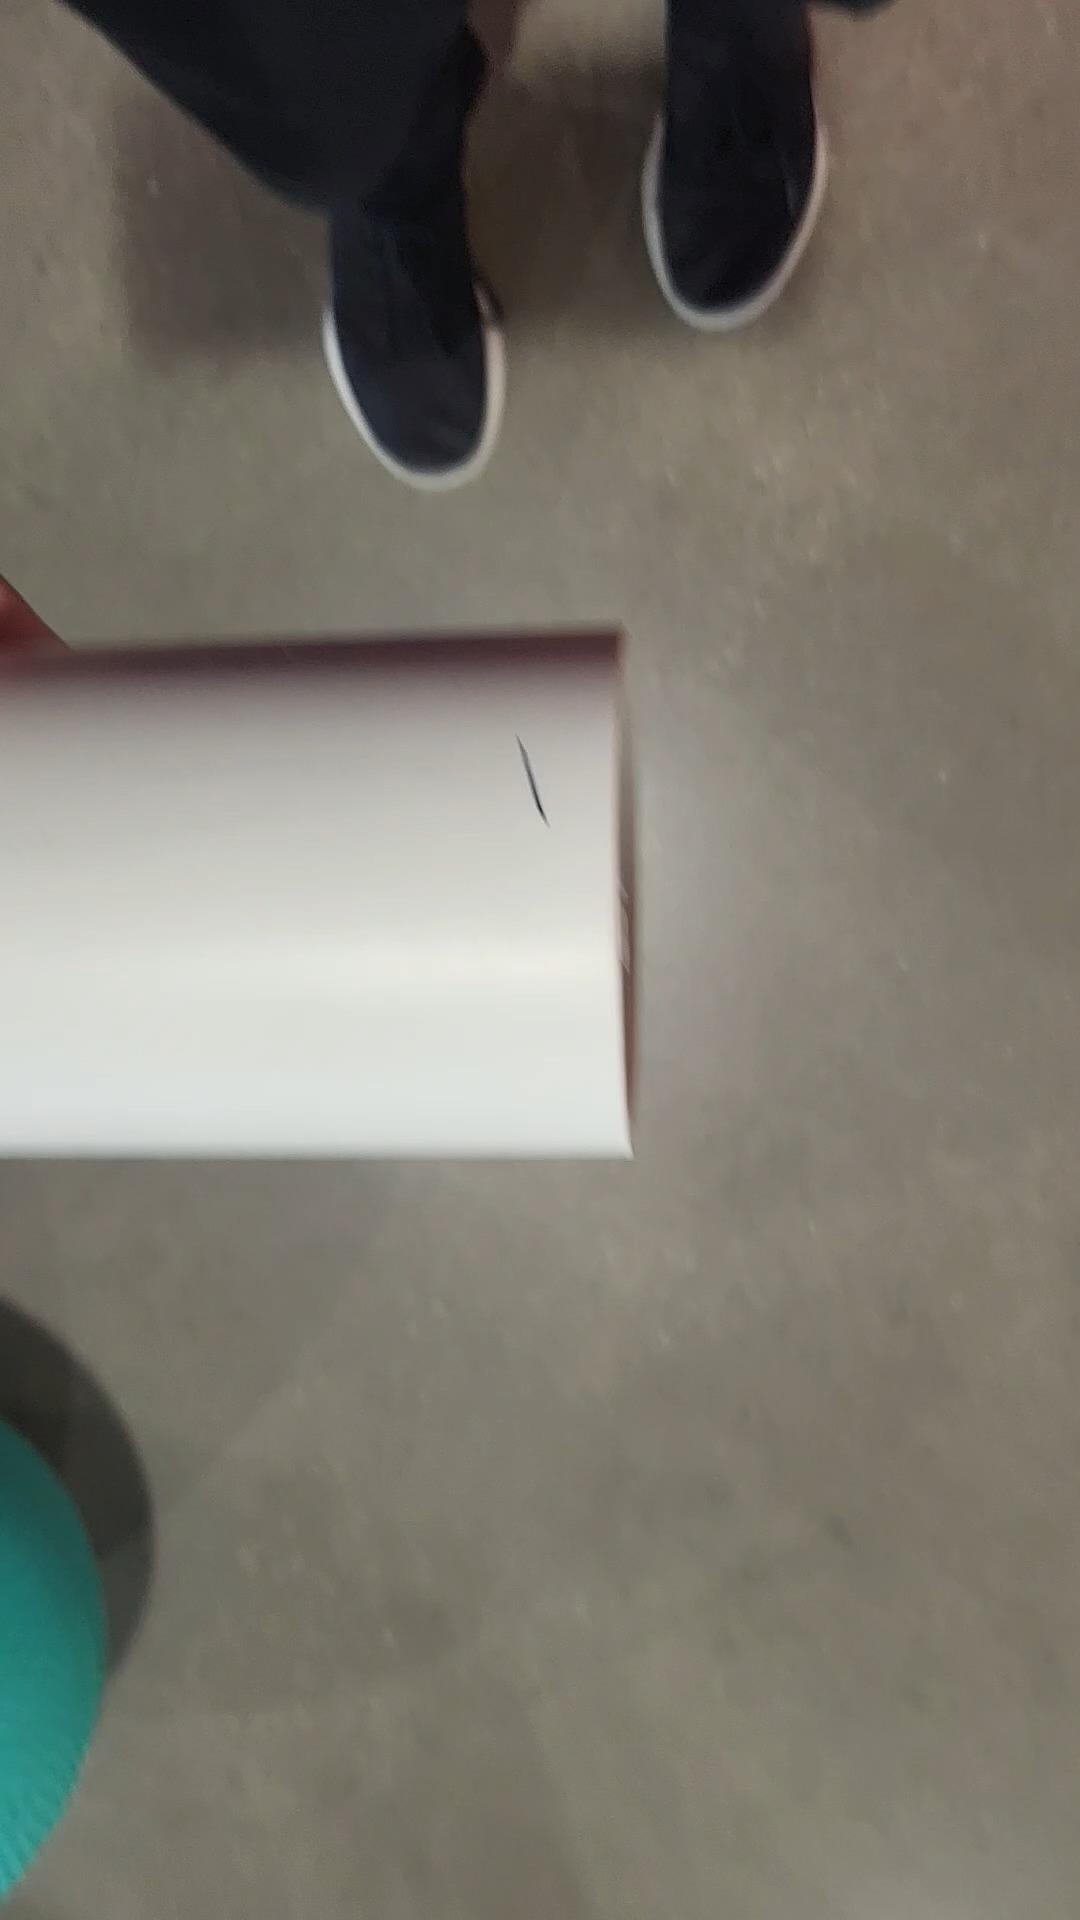algae: (0, 1410, 124, 1920)
coral: (0, 630, 687, 1196)
